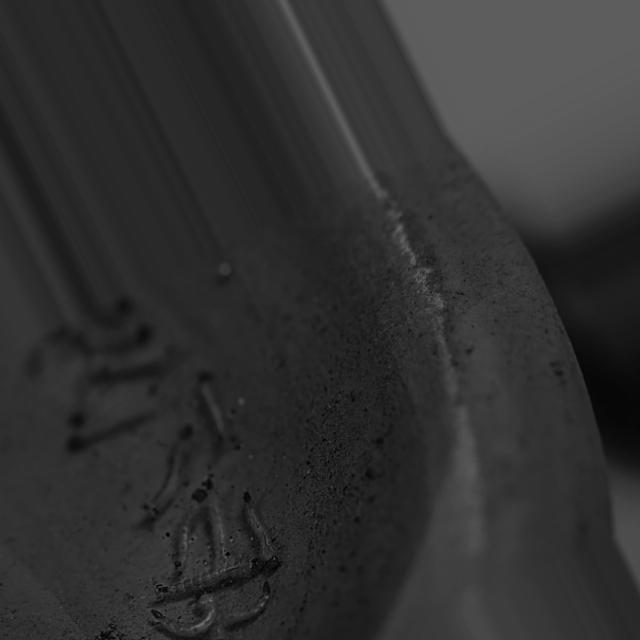larvas: (67, 383, 162, 460), (141, 418, 201, 529), (155, 556, 262, 603), (237, 481, 287, 577), (215, 579, 276, 640), (169, 484, 208, 577), (195, 365, 237, 451), (149, 595, 215, 640), (30, 324, 85, 372), (203, 477, 232, 565), (103, 346, 173, 378), (68, 365, 96, 423), (90, 324, 148, 343)
